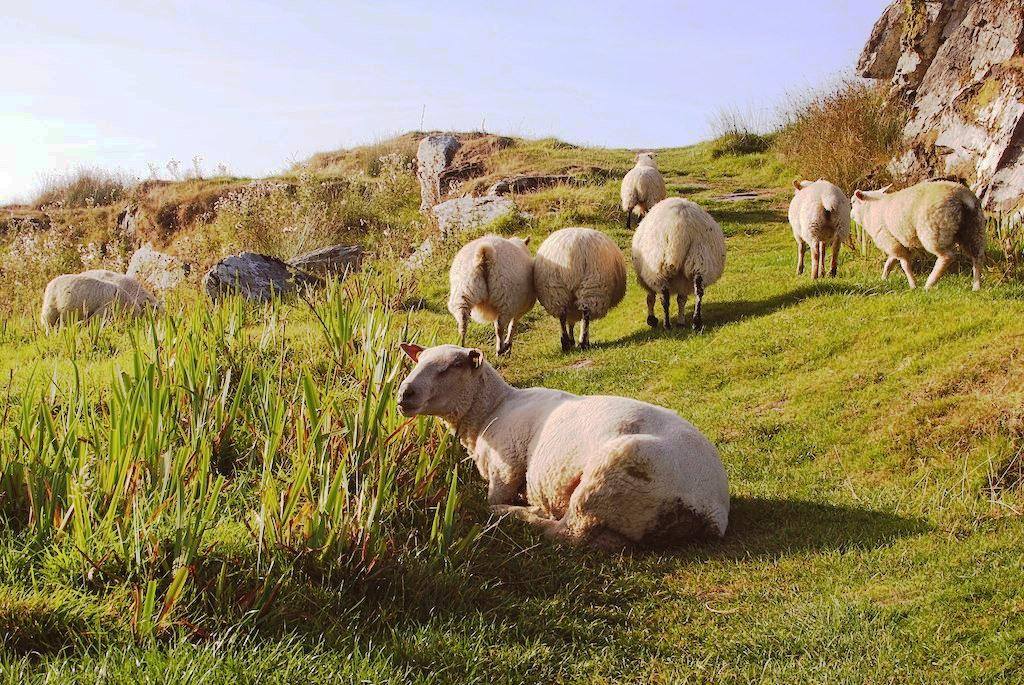Sheep: (393, 345, 730, 556), (851, 168, 985, 289), (629, 196, 730, 335), (535, 226, 629, 351), (449, 232, 530, 354), (784, 178, 852, 274), (39, 274, 147, 326), (90, 267, 167, 318), (619, 146, 666, 228)
